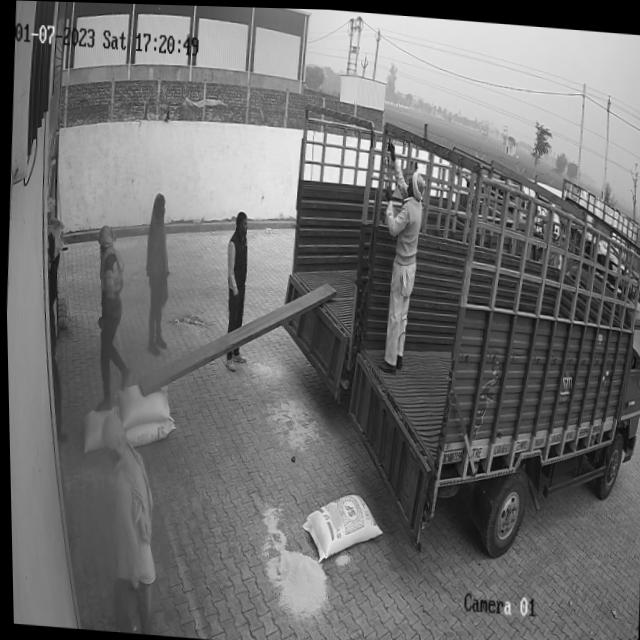sack: (297, 487, 382, 565), (113, 381, 170, 430), (122, 415, 174, 450), (80, 406, 103, 456)
